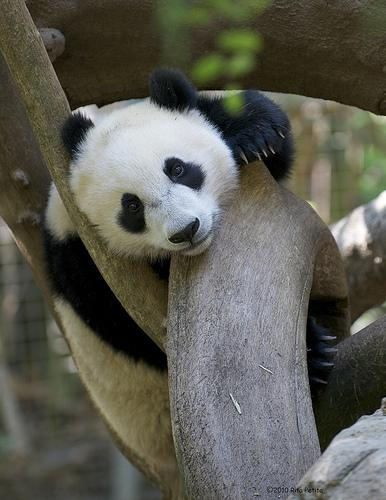panda: (62, 68, 293, 280), (43, 183, 184, 499)
